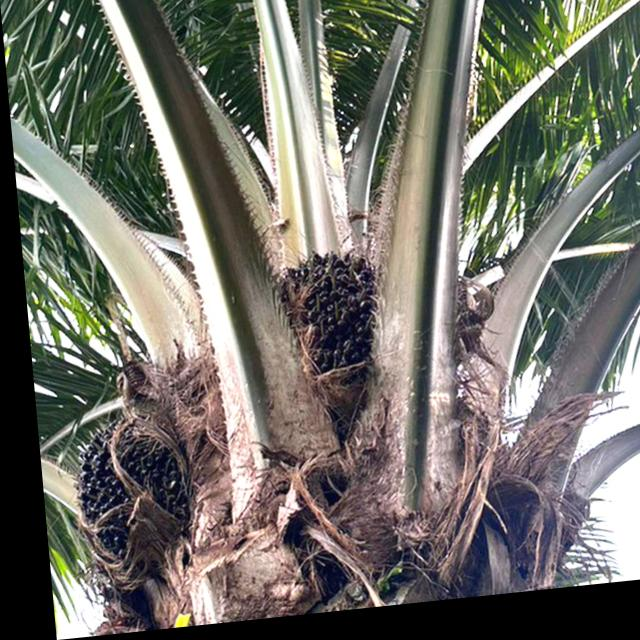ripe: (252, 240, 392, 399)
